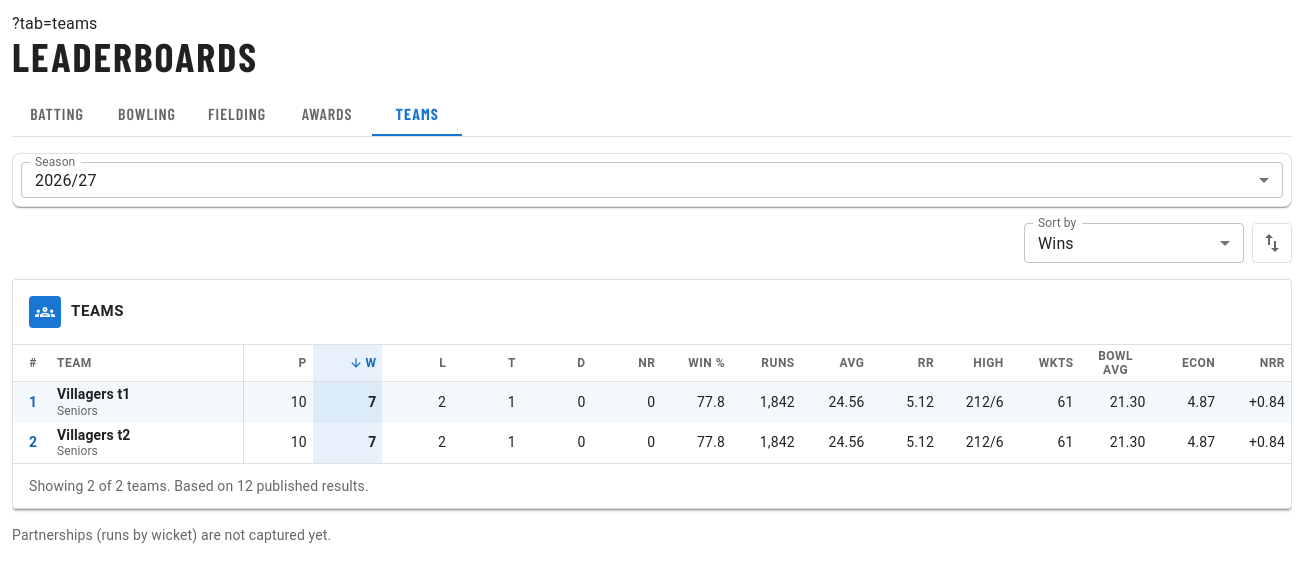
Scenario: Teams tab › the tab › has no Competition select when no competition has counted results, and Batting still has the Team select
The image size is (1304, 576).
What coordinates should you click on to do the following:
click the tab "Batting"
I would click on:
 (57, 114)
Its box is x1=30 y1=104 x2=84 y2=123.
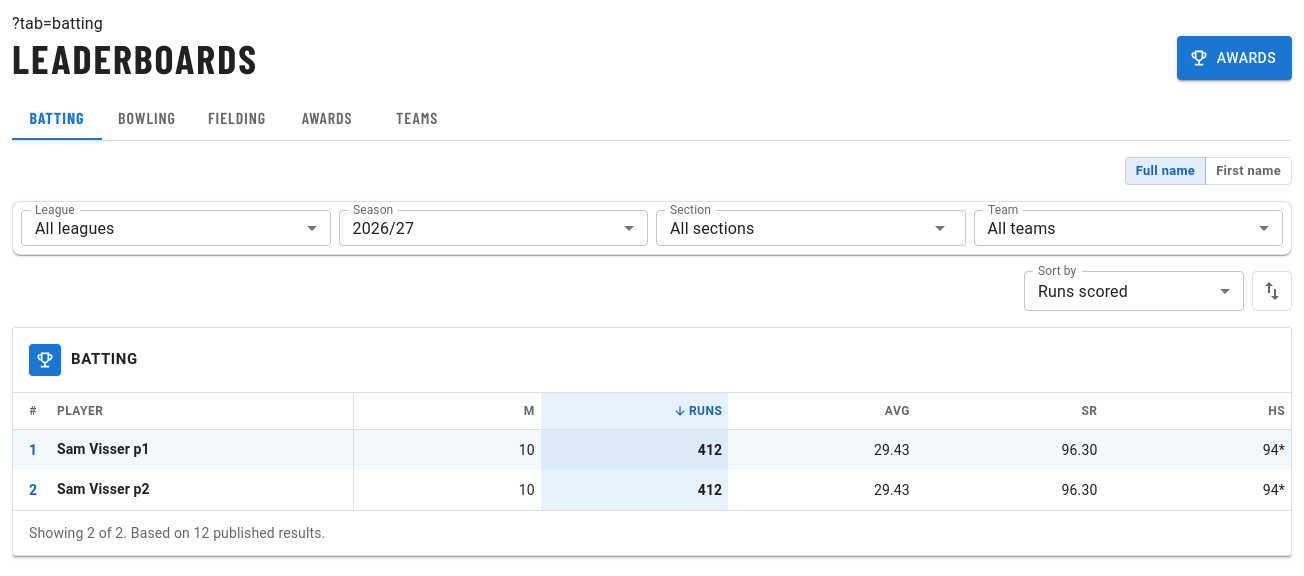
Now the dropdown labelled "team" is shown, box x1=988 y1=218 x2=1056 y2=238
